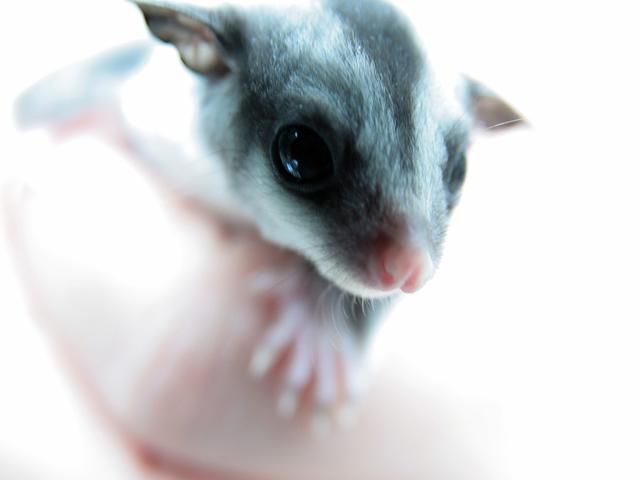mouse: (65, 7, 557, 411)
